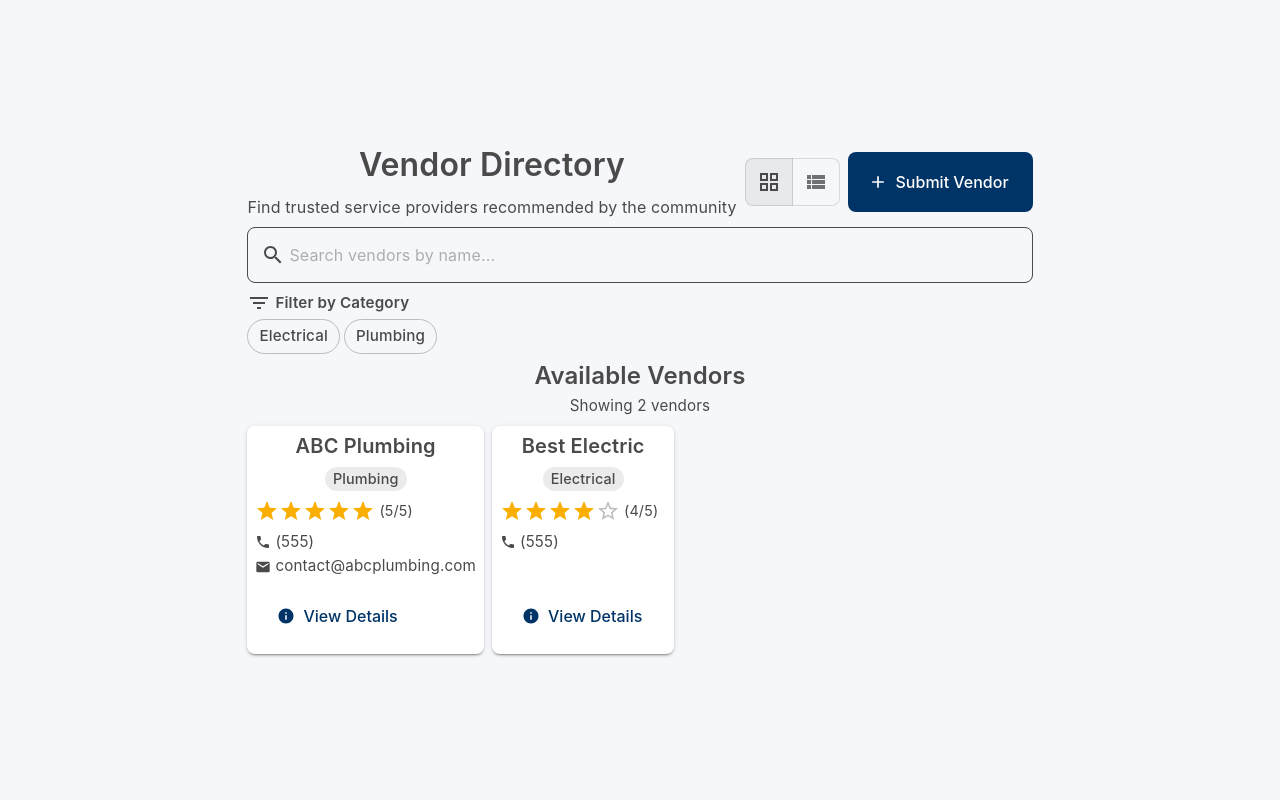
Test: VendorsPage Accessibility › Form Accessibility › vendor submission form meets accessibility standards
Note: Open the form
Click the button "Submit Vendor" at (940, 182), box [848,152,1032,212]
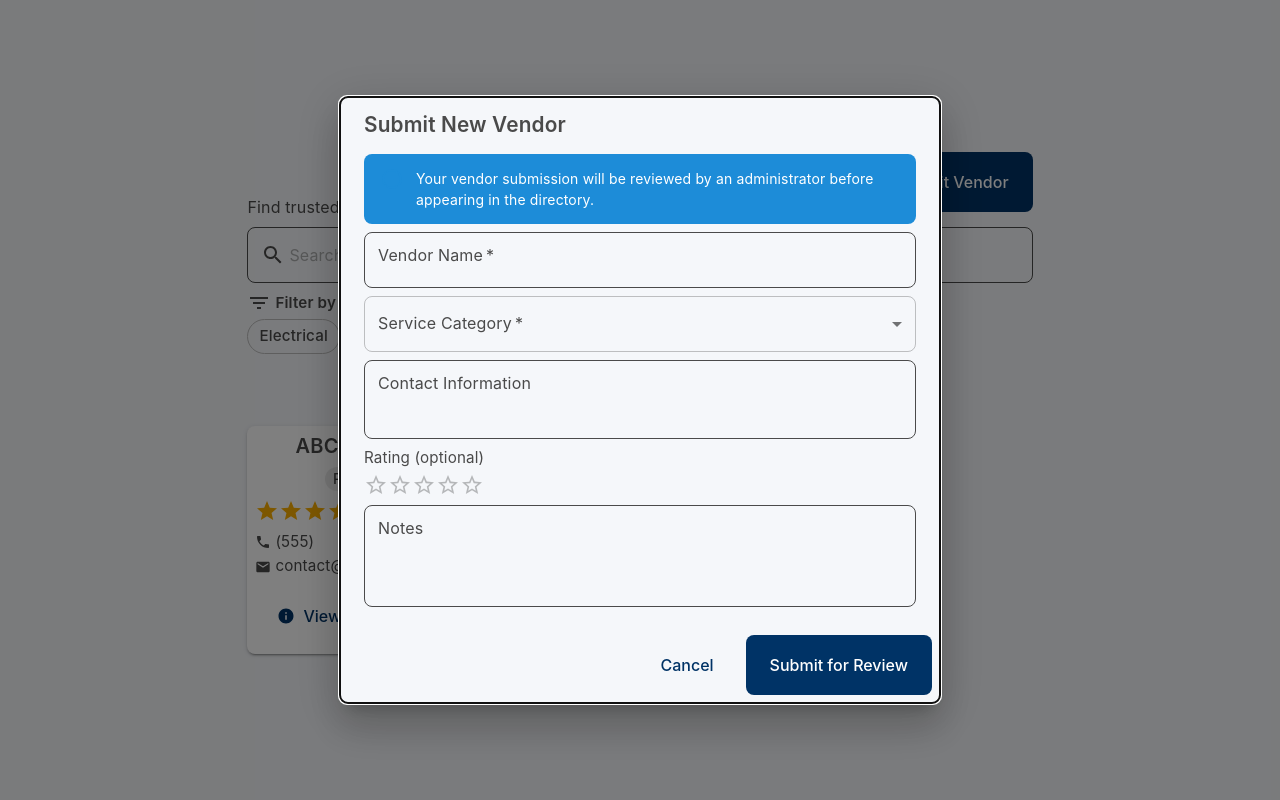
Result: the dialog is shown at [340,97,940,703]
